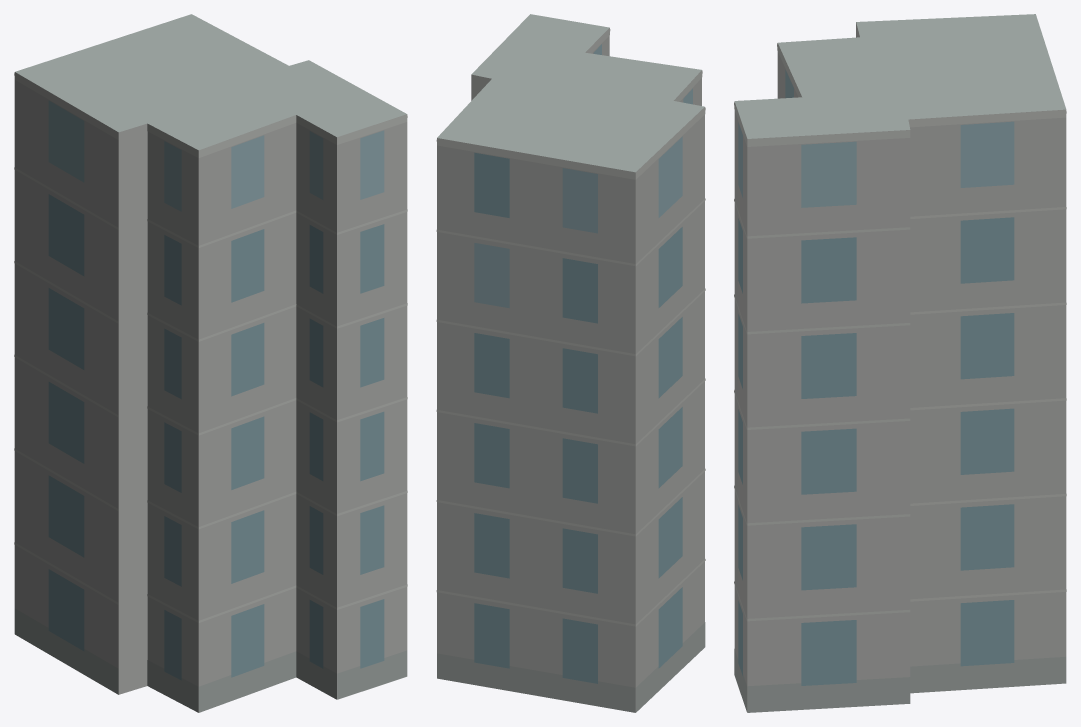
File: survey-upis-32804439.glb
3 renders of one model, left to right at view 1: azimuth 30°, elevation 25°; view 2: azimuth 150°, elevation 25°; view 3: azimuth 270°, elevation 25°, orthographic. The views are drawn at different scales.
Parts seen in each view (by area): view 1: survey-upis-32804439.tmp; view 2: survey-upis-32804439.tmp; view 3: survey-upis-32804439.tmp.
Part boxes in pixels (bbox=[...]): survey-upis-32804439.tmp: bbox=[14, 14, 407, 712]; survey-upis-32804439.tmp: bbox=[436, 14, 705, 712]; survey-upis-32804439.tmp: bbox=[734, 14, 1066, 712].
Size of the model in its own units: 8.2 by 17.5 by 9.2.
